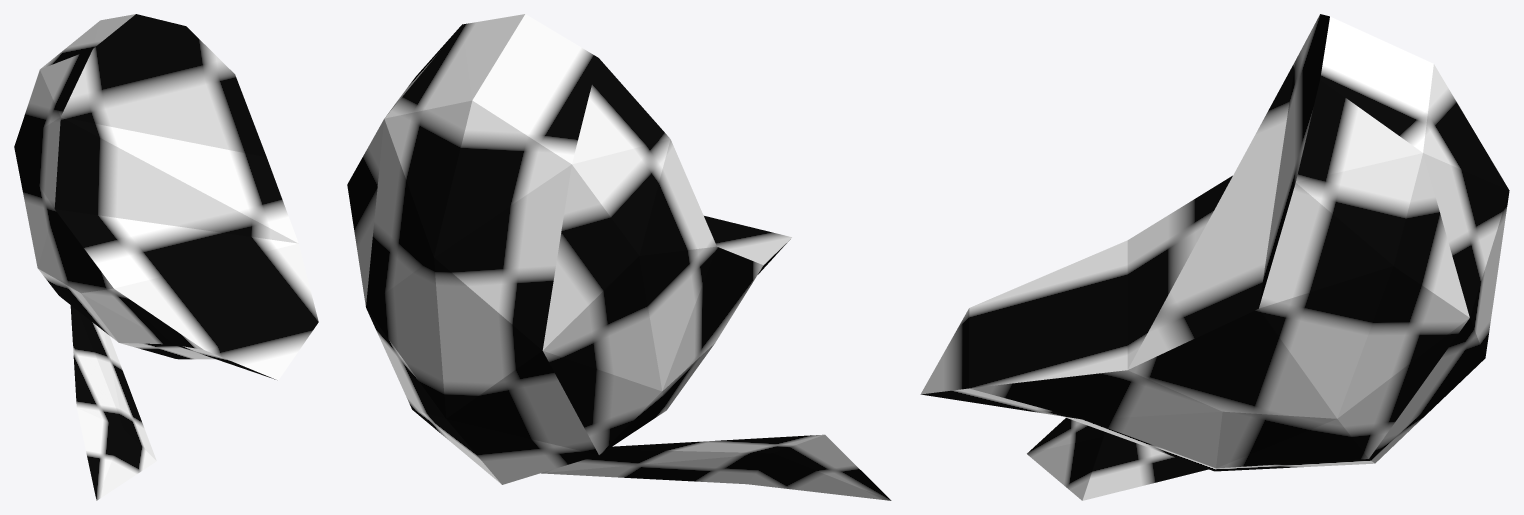
Rendered from initarhl5.dae.
The picture shows the model from 3 angles, left to right: view 1: azimuth 30°, elevation 25°; view 2: azimuth 150°, elevation 25°; view 3: azimuth 270°, elevation 25°; orthographic projection. The views are drawn at different scales.
Parts seen in each view (by area): view 1: armor; view 2: armor; view 3: armor.
Boxes of the visible parts, box(x1,y1,x2,y2) form: armor: box(14, 14, 318, 500); armor: box(347, 14, 891, 500); armor: box(920, 14, 1509, 500).
Bounding box in the file's own units: 0.8221 × 1.16 × 1.17.
Materials: 1 (1 with a texture image).
